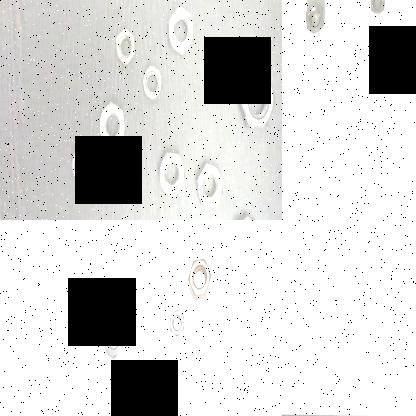NUTS: (235, 69, 279, 140), (164, 8, 200, 56), (99, 98, 131, 152), (194, 160, 226, 212), (156, 147, 186, 199), (186, 254, 215, 302), (100, 316, 128, 362), (68, 146, 94, 188), (115, 27, 138, 71), (304, 0, 328, 40), (141, 63, 163, 104), (166, 306, 188, 342), (367, 0, 385, 20)
